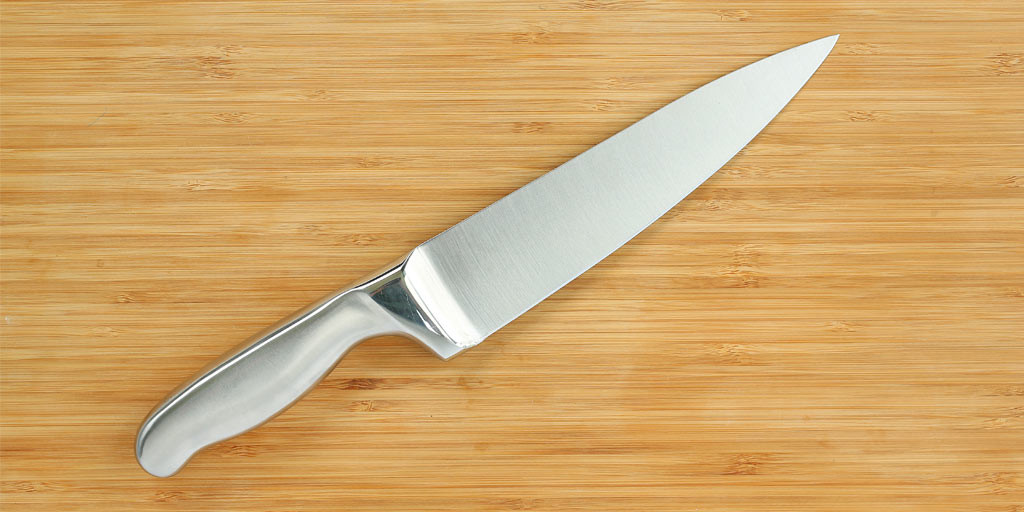knife: (135, 35, 843, 478)
